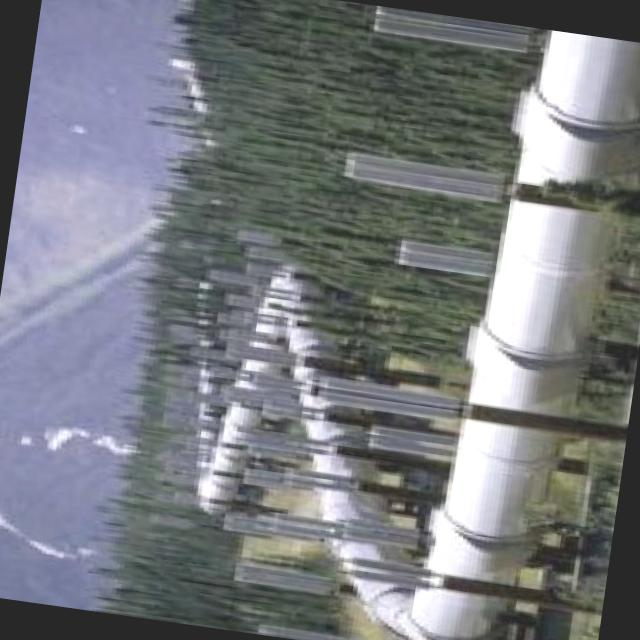gas: (200, 29, 640, 640)
